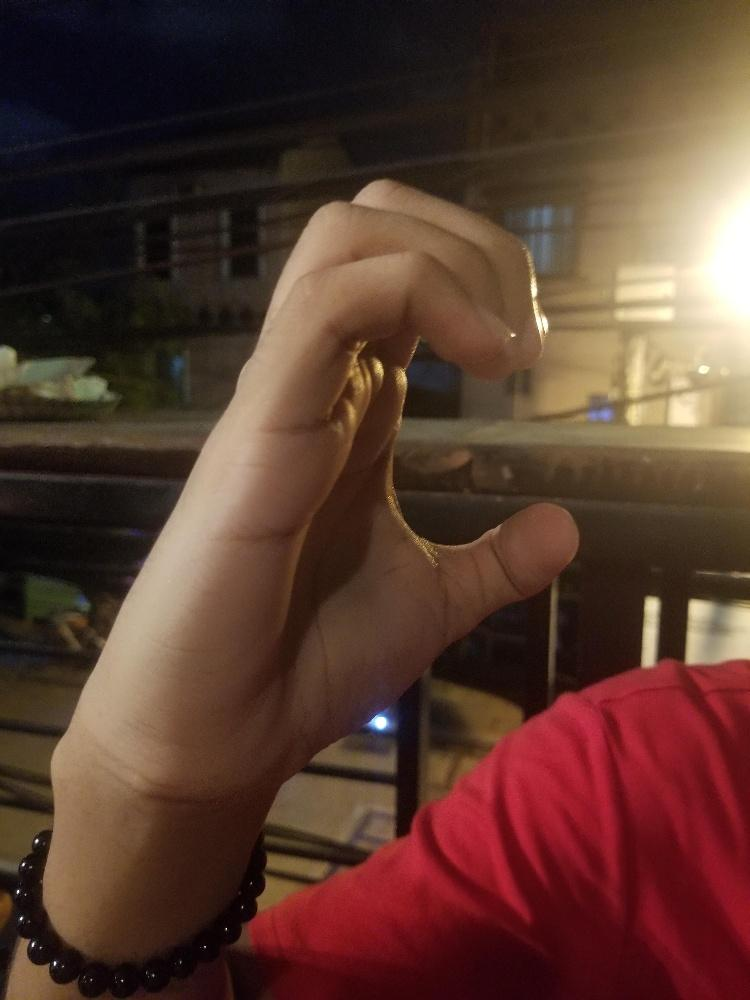c: (91, 177, 581, 780)
